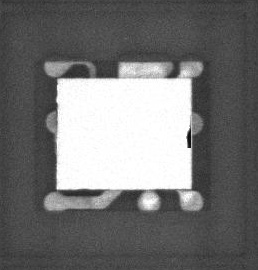DIE_BROKEN: (184, 124, 192, 149)
